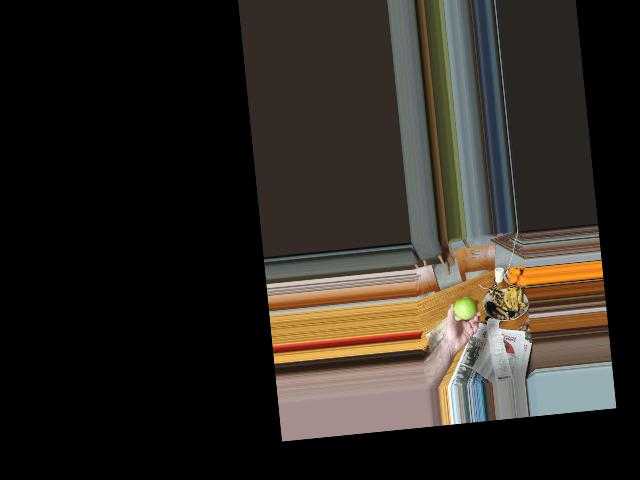apple: (450, 294, 478, 323)
